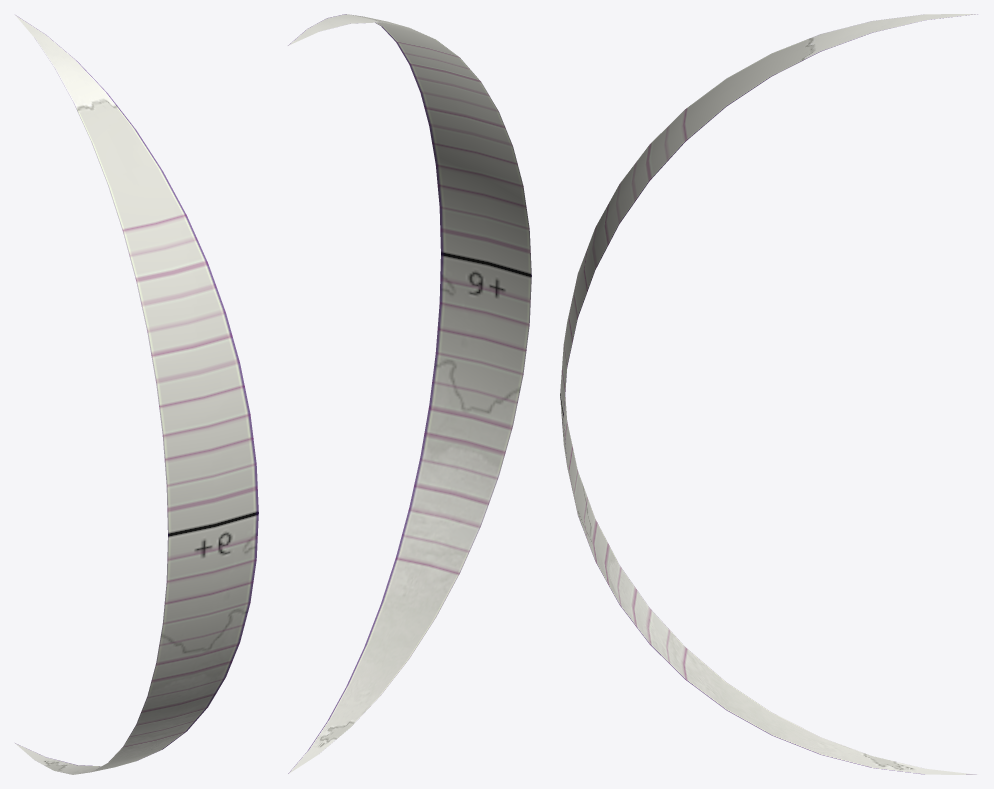
File: GMTP6.obj
3 renders of one model, left to right at view 1: azimuth 30°, elevation 25°; view 2: azimuth 150°, elevation 25°; view 3: azimuth 270°, elevation 25°, orthographic. The views are drawn at different scales.
Visible parts, largest first — view 1: GMTP06; view 2: GMTP06; view 3: GMTP06.
Boxes of the visible parts, left/top/right/bottom form: GMTP06: left=15, top=15, right=258, bottom=774; GMTP06: left=288, top=14, right=531, bottom=773; GMTP06: left=560, top=14, right=977, bottom=774.
Size of the model in its own units: 66.8 by 512 by 256.
Materials: 1 (1 with a texture image).
